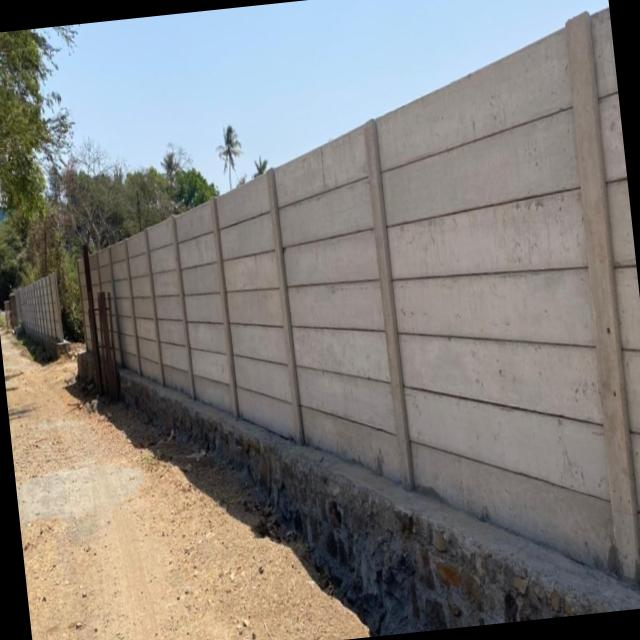cement: (122, 371, 640, 634)
white-sand: (0, 332, 369, 640)
